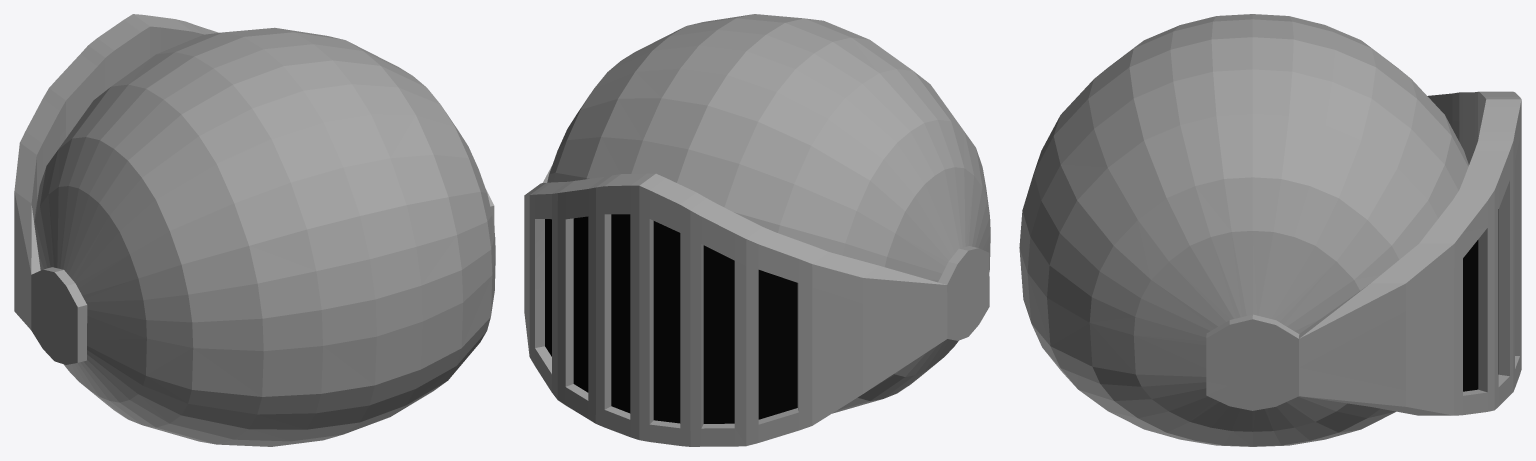
Rendered from head.obj.
3 renders of one model, left to right at view 1: azimuth 30°, elevation 25°; view 2: azimuth 150°, elevation 25°; view 3: azimuth 270°, elevation 25°, orthographic. The views are drawn at different scales.
Visible parts, largest first — view 1: 頭_立方体; view 2: 頭_立方体; view 3: 頭_立方体.
Part boxes in pixels (x1,y1,x2,y2): 頭_立方体: (14, 14, 495, 446); 頭_立方体: (524, 14, 990, 446); 頭_立方体: (1019, 14, 1521, 446).
Bounding box in the file's own units: 4.32 × 3.6 × 4.34.
1 material, 1 textured.
